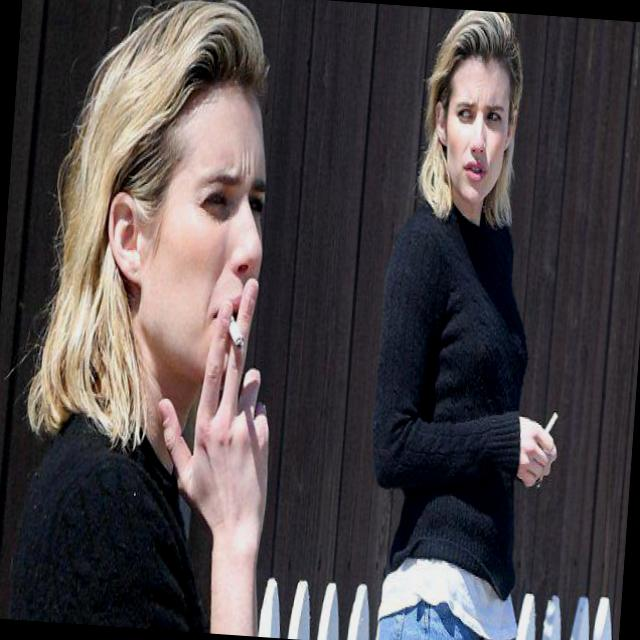smoke: (217, 296, 250, 360), (529, 388, 558, 452)
